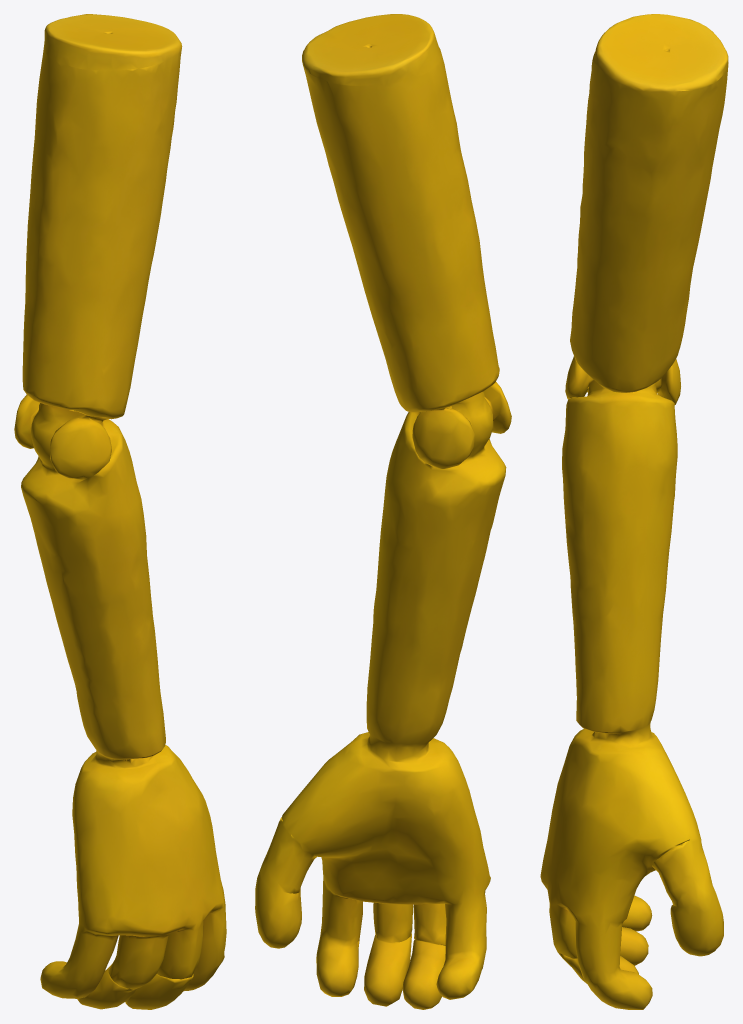
File: partygoer-arm.glb
3 views of the same model, side by side, from view 1: azimuth 30°, elevation 25°; view 2: azimuth 150°, elevation 25°; view 3: azimuth 270°, elevation 25° (orthographic). The views are drawn at different scales.
Visible parts, largest first — view 1: tripo_node_042dca46-3259-4d62-aad7-2503c23198af; view 2: tripo_node_042dca46-3259-4d62-aad7-2503c23198af; view 3: tripo_node_042dca46-3259-4d62-aad7-2503c23198af.
Part boxes in pixels (x1,y1,x2,y2): tripo_node_042dca46-3259-4d62-aad7-2503c23198af: (14,14,226,1009); tripo_node_042dca46-3259-4d62-aad7-2503c23198af: (255,14,511,1009); tripo_node_042dca46-3259-4d62-aad7-2503c23198af: (540,14,728,1009).
Size of the model in its own units: 0.209 by 0.9792 by 0.1754.
1 material, 1 textured.
